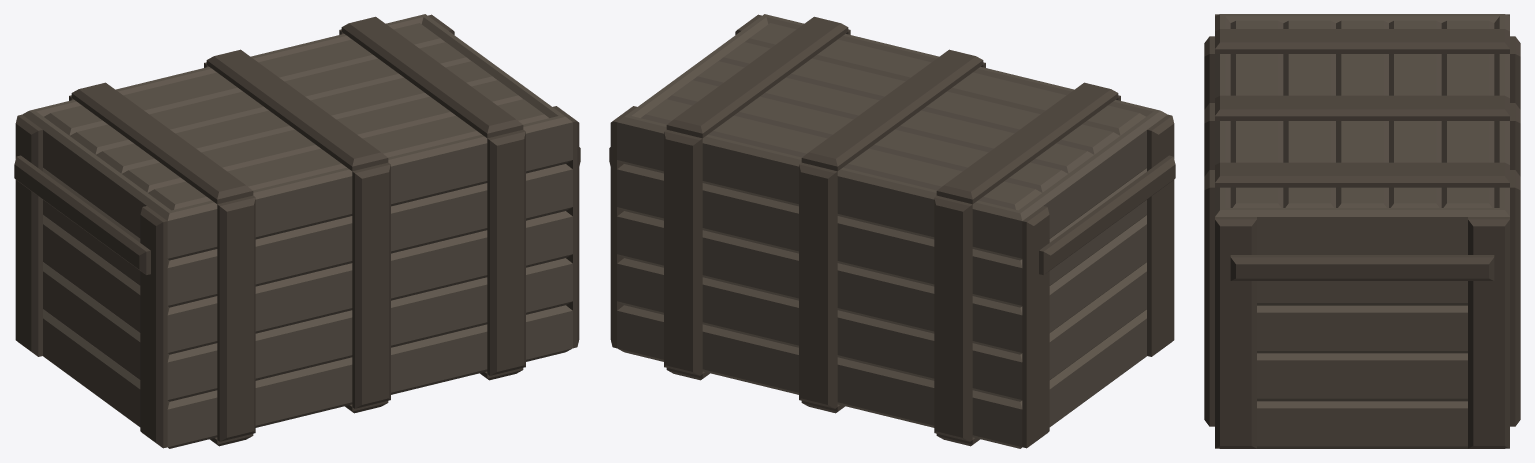
File: Prop_Crate_01_01.fbx
3 renders of one model, left to right at view 1: azimuth 30°, elevation 25°; view 2: azimuth 150°, elevation 25°; view 3: azimuth 270°, elevation 25°, orthographic.
Visible parts, largest first — view 1: Prop_Crate_01_01_LOD0; view 2: Prop_Crate_01_01_LOD0; view 3: Prop_Crate_01_01_LOD0.
Boxes of the visible parts, left/top/right/bottom form: Prop_Crate_01_01_LOD0: left=14, top=14, right=580, bottom=448; Prop_Crate_01_01_LOD0: left=609, top=14, right=1175, bottom=448; Prop_Crate_01_01_LOD0: left=1204, top=14, right=1520, bottom=448.
Size of what is drawn, in the model's own units: 78.4 by 43.2 by 48.
